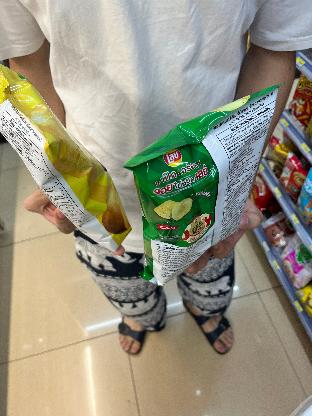Plastic Packaging: (133, 80, 289, 290), (1, 62, 130, 258)
